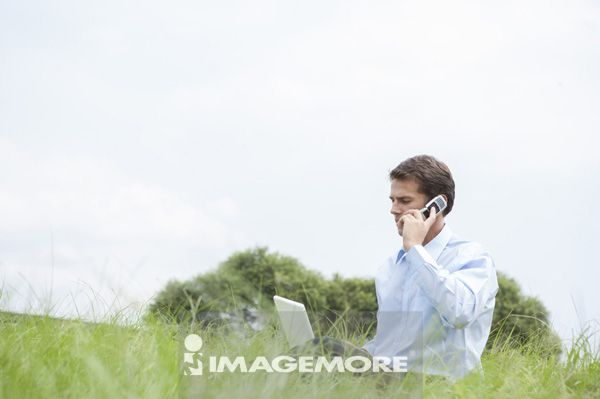talk: (386, 193, 446, 249)
